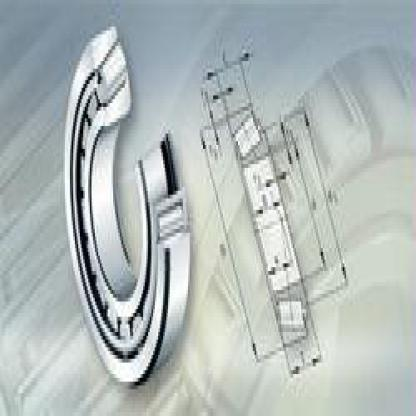FOD: (63, 15, 190, 390)
